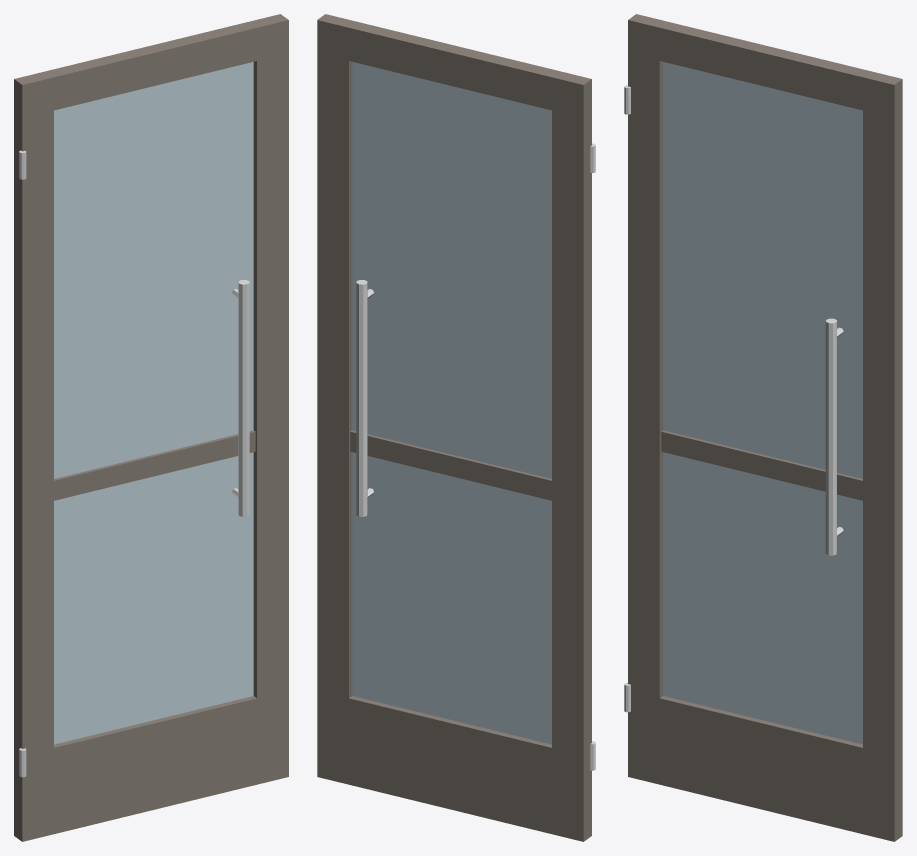
The model's file is door_leaf_glass.glb.
The picture shows the model from 3 angles, left to right: view 1: azimuth 30°, elevation 25°; view 2: azimuth 150°, elevation 25°; view 3: azimuth 330°, elevation 25°; orthographic projection.
Parts seen in each view (by area): view 1: door_leaf_glass_glass, door_leaf_glass_frame, door_leaf_glass_steel; view 2: door_leaf_glass_glass, door_leaf_glass_frame, door_leaf_glass_steel; view 3: door_leaf_glass_glass, door_leaf_glass_frame, door_leaf_glass_steel.
Boxes of the visible parts, bbox=[...] form: door_leaf_glass_glass: bbox=[54, 62, 253, 744]; door_leaf_glass_frame: bbox=[14, 14, 288, 841]; door_leaf_glass_steel: bbox=[19, 150, 249, 777]; door_leaf_glass_glass: bbox=[352, 62, 551, 744]; door_leaf_glass_frame: bbox=[317, 14, 591, 841]; door_leaf_glass_steel: bbox=[356, 143, 595, 770]; door_leaf_glass_glass: bbox=[663, 62, 862, 744]; door_leaf_glass_frame: bbox=[628, 14, 902, 841]; door_leaf_glass_steel: bbox=[624, 85, 843, 712].
Bounding box in the file's own units: 0.85 × 2.28 × 0.177.
